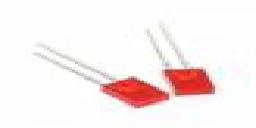LED: (148, 19, 223, 92), (95, 72, 170, 109)
